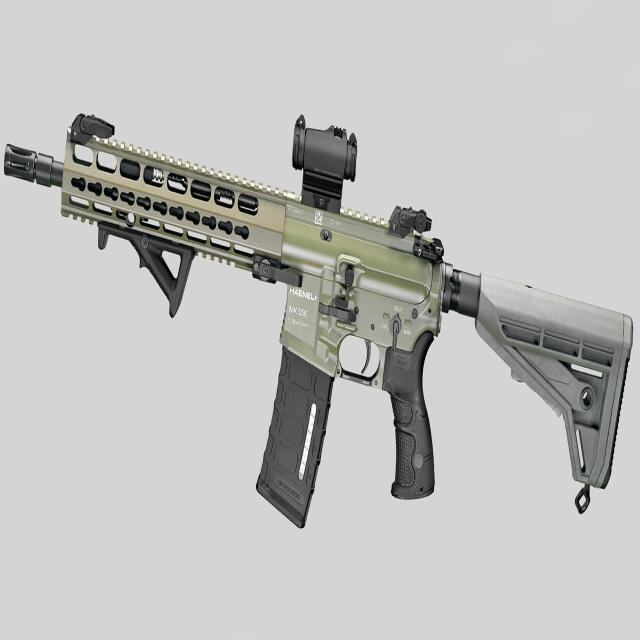Rifle: (7, 114, 635, 530)
